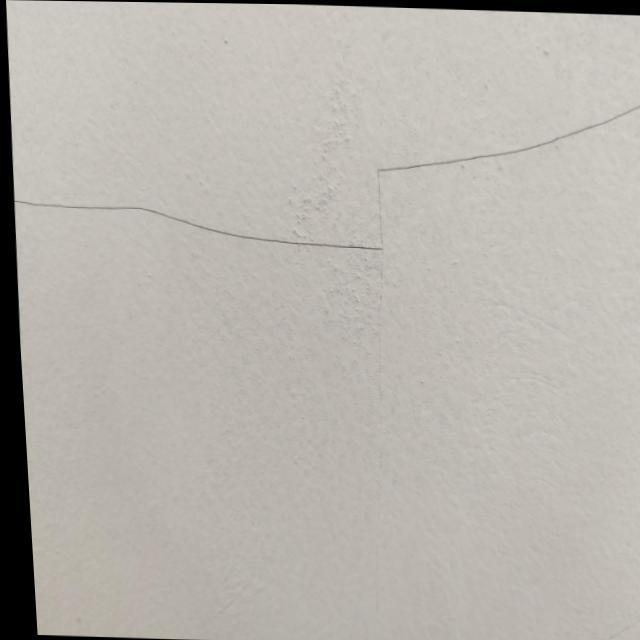Crack: (17, 196, 382, 250), (377, 104, 638, 170)
